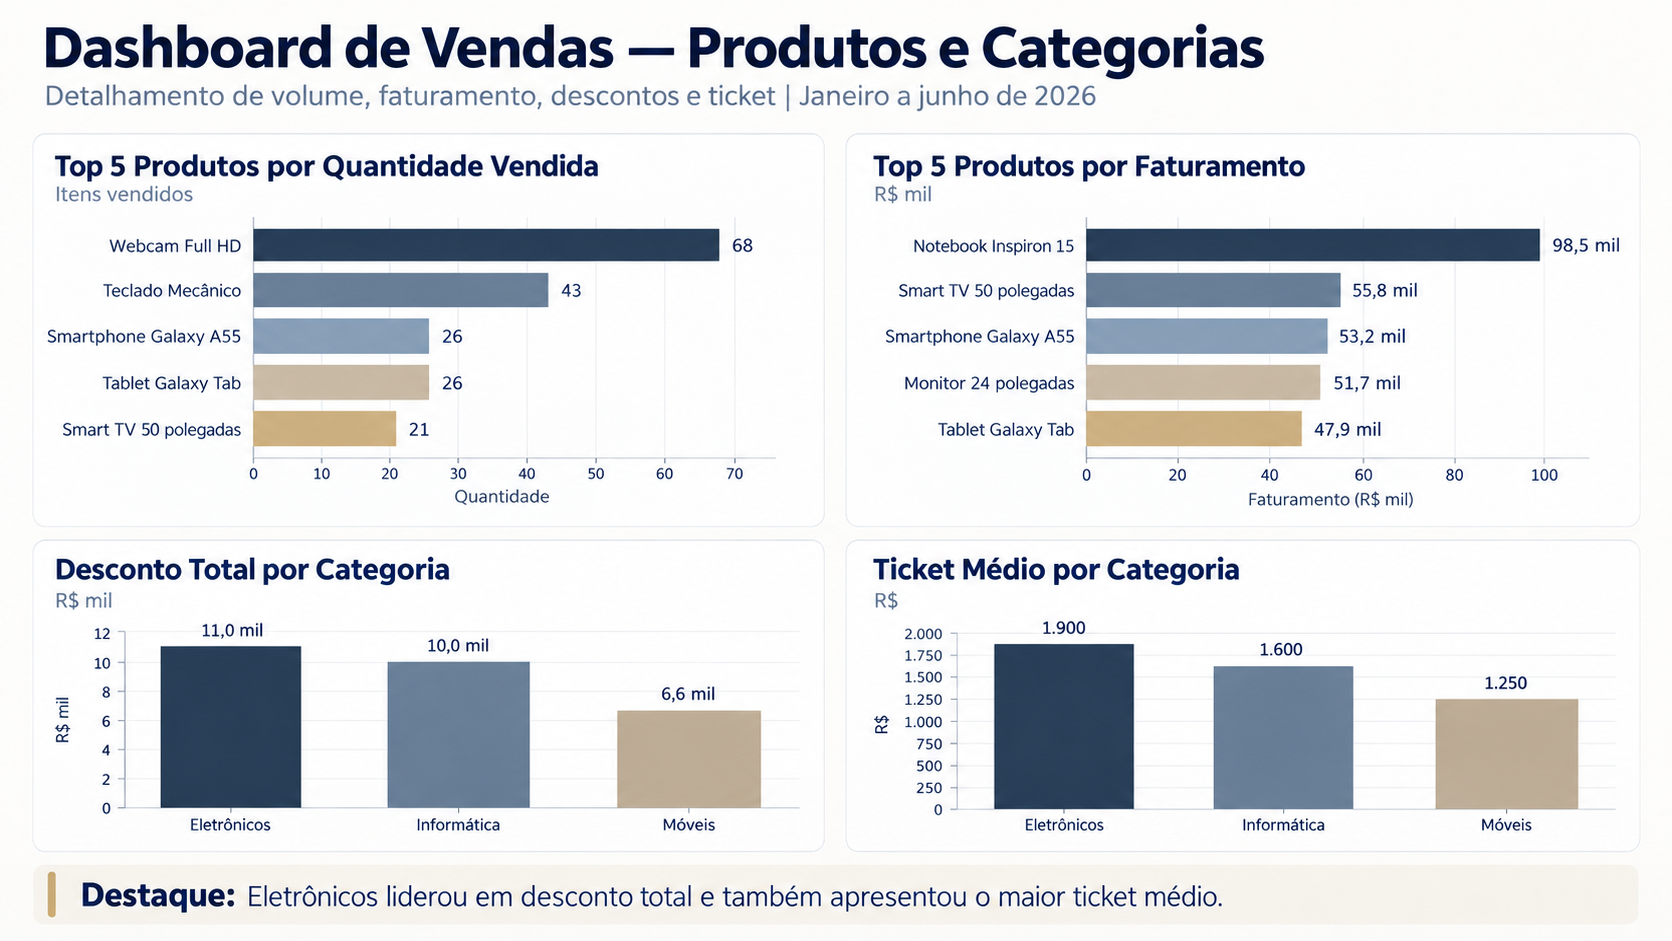

What the dashboard file says about the page in this screenshot:
{"tool":"powerbi","page":{"name":"Análise Comercial","canvas":[1920,1080],"ordinal":1},"visuals":[{"type":"textbox","box":[10,0,1910,100],"z":0},{"type":"barChart","fields":{"Category":["dim_cliente.cliente"],"Y":["fato_vendas.Faturamento Líquido"]},"box":[6,540,850,540],"z":1000},{"type":"barChart","fields":{"Category":["dim_produto.categoria"],"Y":["fato_vendas.Desconto Total"]},"box":[856,100,1064,440],"z":2000},{"type":"columnChart","fields":{"Category":["dim_produto.produto"],"Y":["fato_vendas.Itens Vendidos"]},"box":[0,100,856,440],"z":3000},{"type":"clusteredColumnChart","fields":{"Category":["dim_produto.categoria"],"Y":["fato_vendas.Ticket Médio"]},"box":[856,540,1064,540],"z":3001}]}

Visuals, with their boxes in screenshot pixels (x1, y1, x2, y2), scaled from the page's 1920x1080 canvas onto the 1672x941 screenshot:
textbox: [9, 0, 1671, 87]
barChart - dim_cliente.cliente x fato_vendas.Faturamento Líquido: [5, 470, 745, 940]
barChart - dim_produto.categoria x fato_vendas.Desconto Total: [745, 87, 1671, 470]
columnChart - dim_produto.produto x fato_vendas.Itens Vendidos: [0, 87, 745, 470]
clusteredColumnChart - dim_produto.categoria x fato_vendas.Ticket Médio: [745, 470, 1671, 940]
